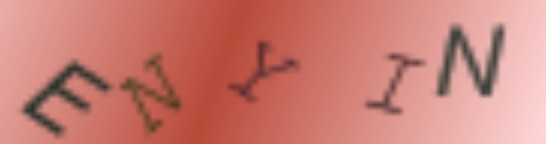E: (22, 54, 112, 142)
I: (361, 54, 427, 119)
N: (433, 18, 512, 102), (122, 50, 182, 134)
Y: (228, 36, 307, 108)
